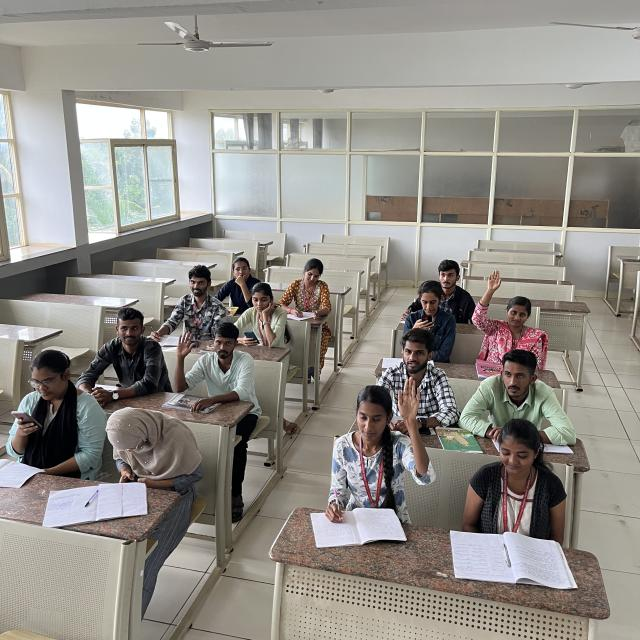Hand Rising: (333, 382, 433, 511), (170, 312, 253, 413), (468, 265, 546, 359)
Reading: (448, 418, 562, 551), (276, 251, 344, 328), (239, 284, 291, 352)
Using Phone: (0, 342, 101, 478), (92, 394, 211, 495), (392, 276, 461, 358)
Writing: (143, 260, 224, 342)
